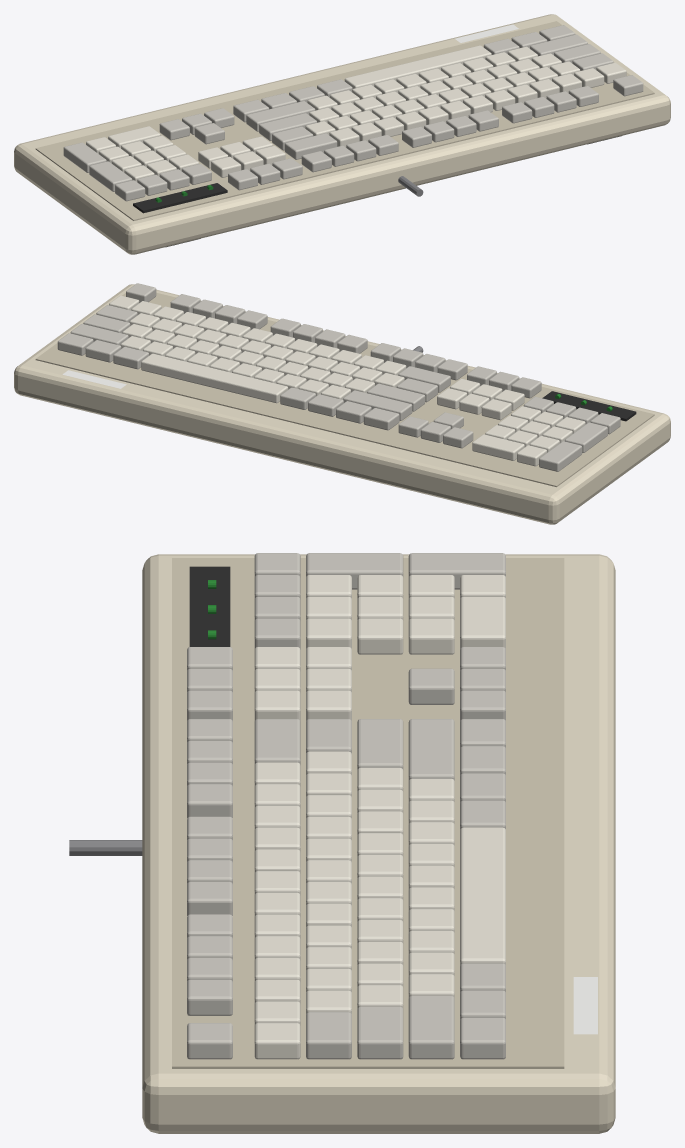
File: keyboard.glb
3 views of the same model, one above another, from view 1: azimuth 30°, elevation 25°; view 2: azimuth 150°, elevation 25°; view 3: azimuth 270°, elevation 25° (orthographic). The views are drawn at different scales.
Visible parts, largest first — view 1: body, badge_front; view 2: body, badge_front; view 3: body, badge_front.
Boxes of the visible parts, bbox=[...] form: body: bbox=[14, 14, 670, 254]; badge_front: bbox=[455, 24, 518, 42]; body: bbox=[14, 283, 670, 524]; badge_front: bbox=[62, 370, 126, 388]; body: bbox=[69, 553, 615, 1133]; badge_front: bbox=[573, 977, 597, 1034].
Bounding box in the file's own units: 0.465 × 0.0365 × 0.202.
